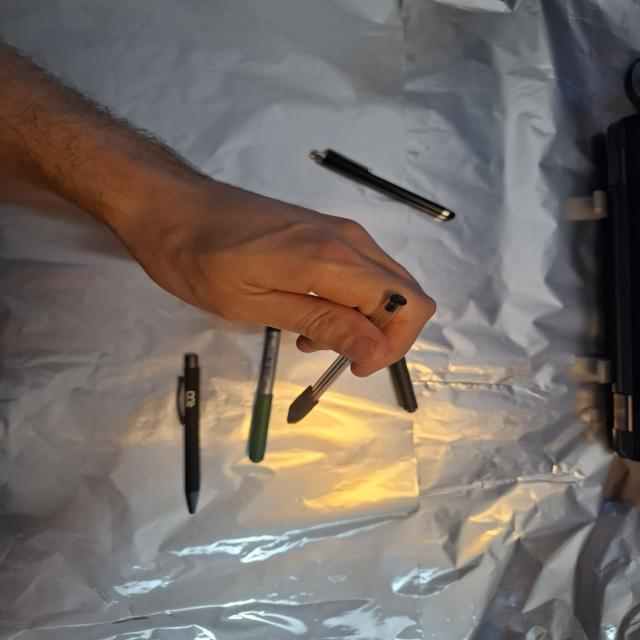glove_off: (108, 164, 440, 379)
